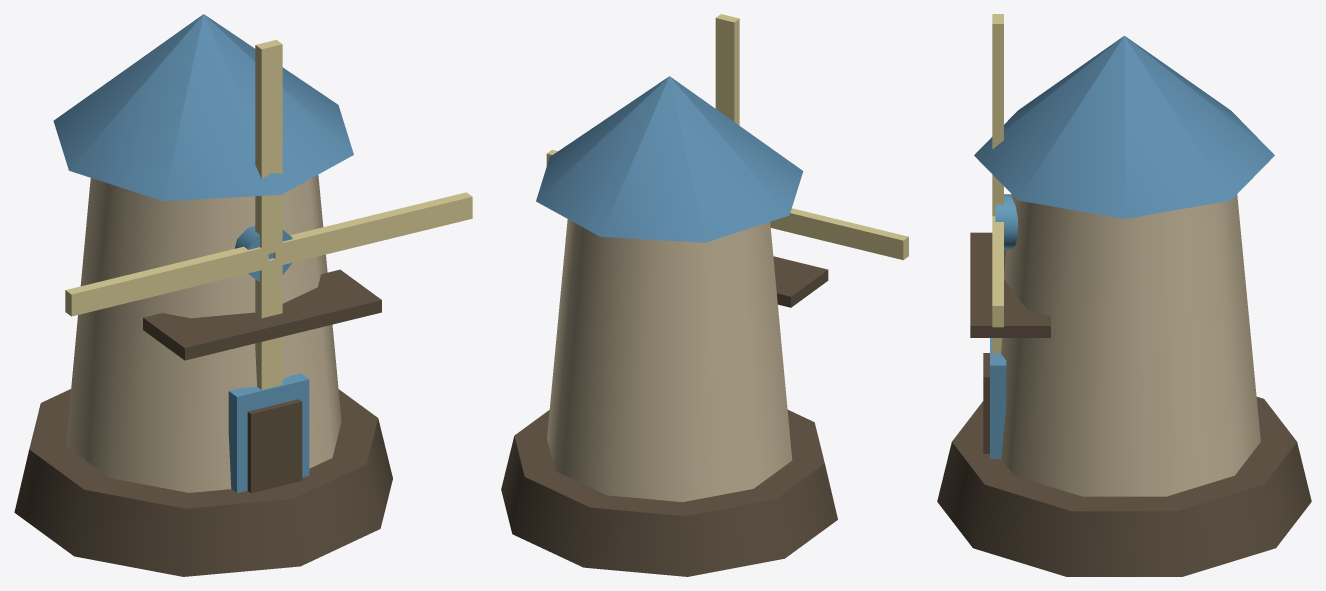
File: windmill_station.glb
The picture shows the model from 3 angles, left to right: view 1: azimuth 30°, elevation 25°; view 2: azimuth 150°, elevation 25°; view 3: azimuth 270°, elevation 25°; orthographic projection. The views are drawn at different scales.
Parts seen in each view (by area): view 1: tower, foundation, roof, balcony, blade_3, blade_1, blade_0, door, door_frame, blade_2, hub; view 2: tower, foundation, roof, blade_3, blade_0, balcony; view 3: tower, foundation, roof, balcony, blade_0, door_frame, blade_1, hub, door.
Boxes of the visible parts, left/top/right/bottom form: tower: left=66, top=175, right=341, bottom=492; foundation: left=14, top=389, right=392, bottom=576; roof: left=53, top=14, right=353, bottom=201; balcony: left=143, top=269, right=381, bottom=360; blade_3: left=65, top=246, right=268, bottom=316; blade_1: left=274, top=192, right=472, bottom=266; blade_0: left=255, top=40, right=282, bottom=255; door: left=247, top=399, right=302, bottom=493; door_frame: left=228, top=373, right=309, bottom=493; blade_2: left=255, top=258, right=282, bottom=389; hub: left=235, top=225, right=292, bottom=281; tower: left=547, top=219, right=792, bottom=502; foundation: left=501, top=410, right=837, bottom=576; roof: left=536, top=76, right=803, bottom=242; blade_3: left=770, top=208, right=908, bottom=260; blade_0: left=715, top=14, right=739, bottom=125; balcony: left=773, top=256, right=828, bottom=307; tower: left=1001, top=194, right=1260, bottom=496; foundation: left=937, top=397, right=1311, bottom=576; roof: left=974, top=36, right=1274, bottom=218; balcony: left=970, top=232, right=1050, bottom=337; blade_0: left=992, top=14, right=1003, bottom=216; door_frame: left=990, top=338, right=1006, bottom=458; blade_1: left=992, top=216, right=1003, bottom=327; hub: left=995, top=194, right=1017, bottom=249; door: left=983, top=353, right=989, bottom=453.
Size of the model in its own units: 6.1 by 7.25 by 5.1.
